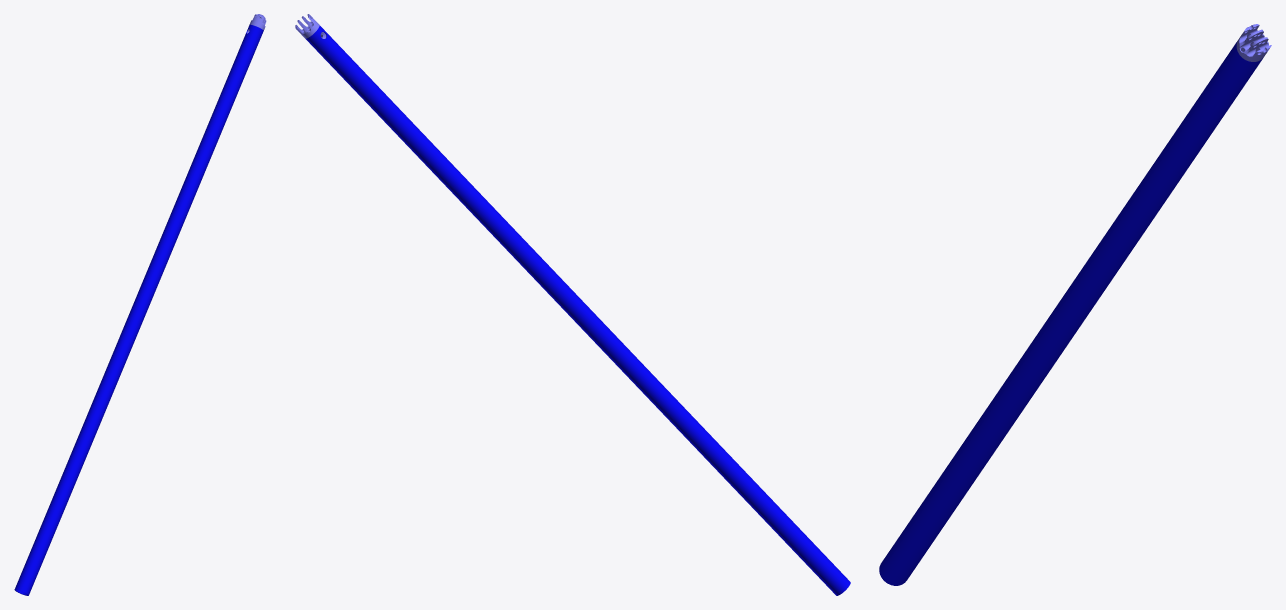
File: instrument_shaft.dae
The picture shows the model from 3 angles, left to right: view 1: azimuth 30°, elevation 25°; view 2: azimuth 150°, elevation 25°; view 3: azimuth 270°, elevation 25°; orthographic projection. The views are drawn at different scales.
Parts seen in each view (by area): view 1: Actor1; view 2: Actor1; view 3: Actor1, Actor0.
Boxes of the visible parts, <box> form: Actor1: <box>14,24,263,595</box>; Actor1: <box>305,25,850,595</box>; Actor1: <box>879,41,1262,585</box>; Actor0: <box>1236,24,1271,61</box>.
Size of the model in its own units: 0.2531 by 0.3102 by 0.1262.
